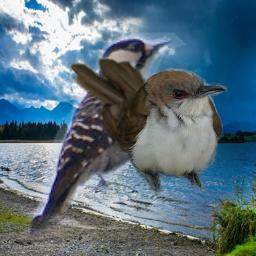Cuckoo: (70, 57, 228, 198)
Woodpecker: (17, 26, 187, 246)
